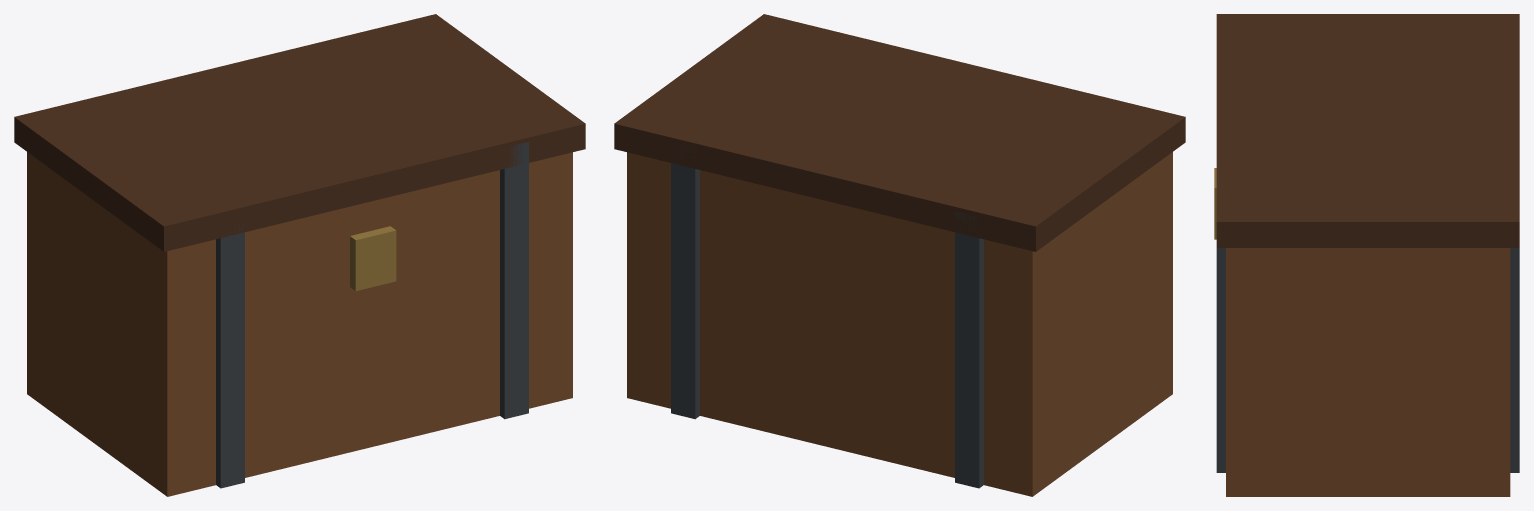
File: skrynia.glb
3 renders of one model, left to right at view 1: azimuth 30°, elevation 25°; view 2: azimuth 150°, elevation 25°; view 3: azimuth 270°, elevation 25°, orthographic.
Visible parts, largest first — view 1: skrynia; view 2: skrynia; view 3: skrynia.
Boxes of the visible parts, x1,y1,x2,y2 form: skrynia: (14, 14, 585, 496); skrynia: (614, 14, 1185, 496); skrynia: (1214, 14, 1519, 496).
Size of the model in its own units: 1.04 by 0.65 by 0.645.
